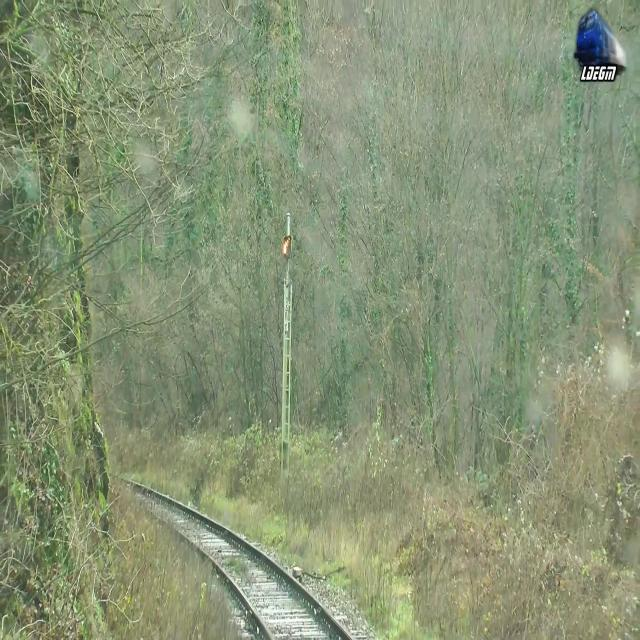rail-track: (117, 481, 344, 639)
